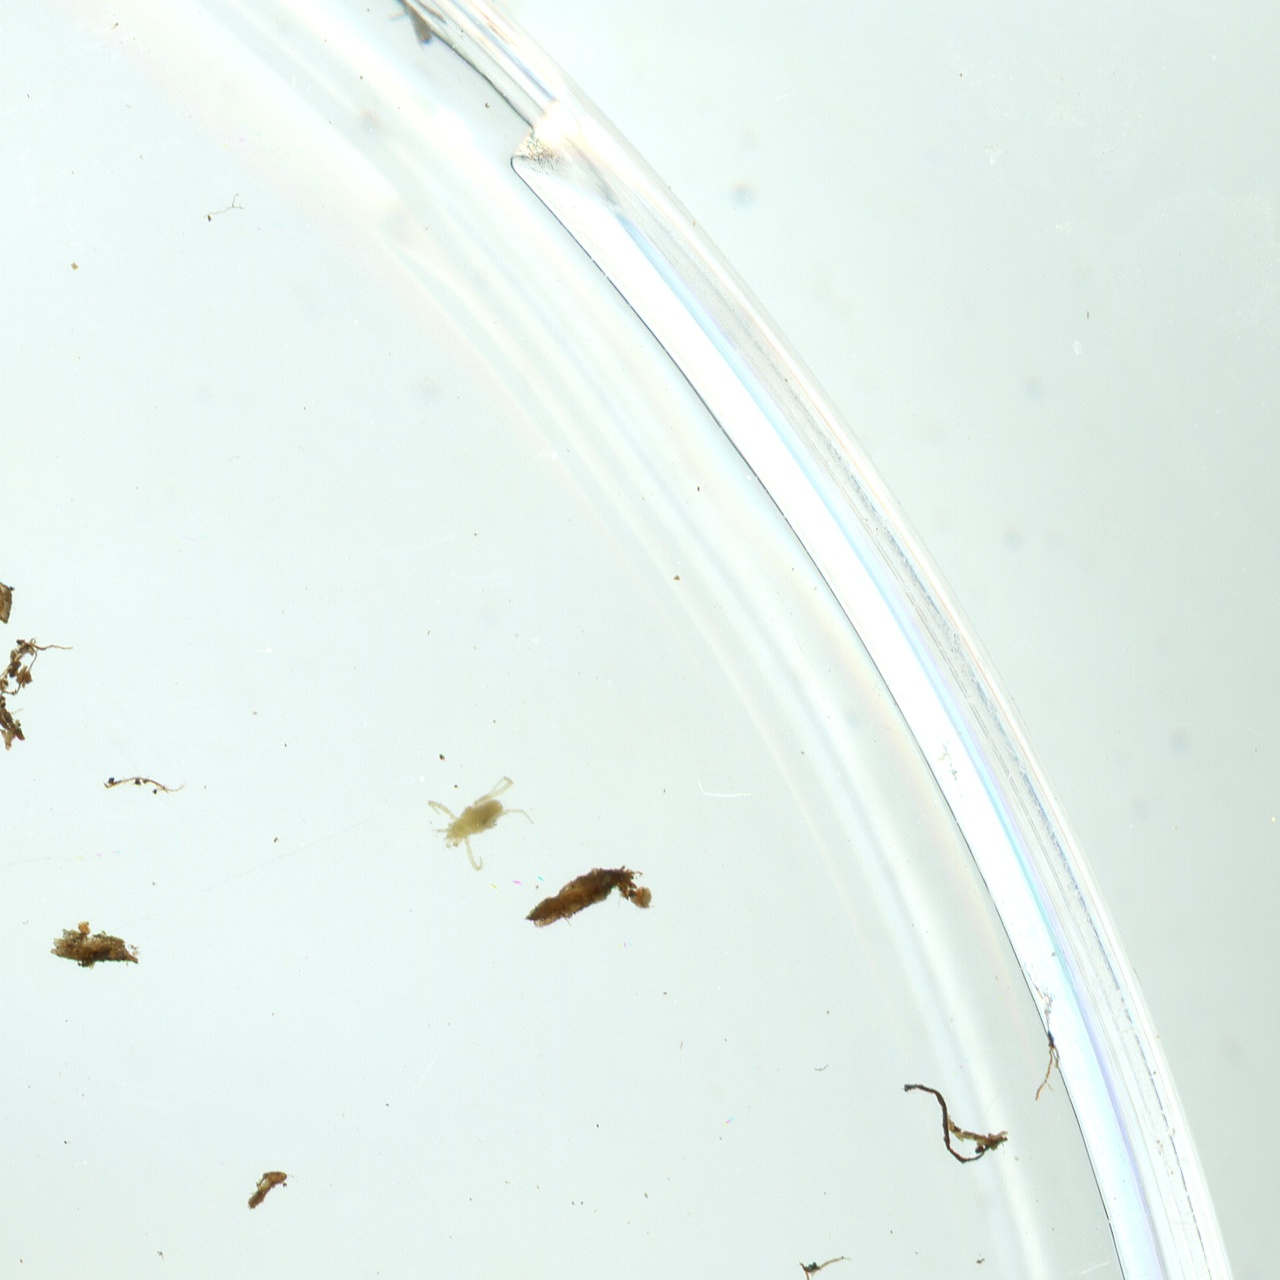arthropod: (417, 752, 549, 883)
